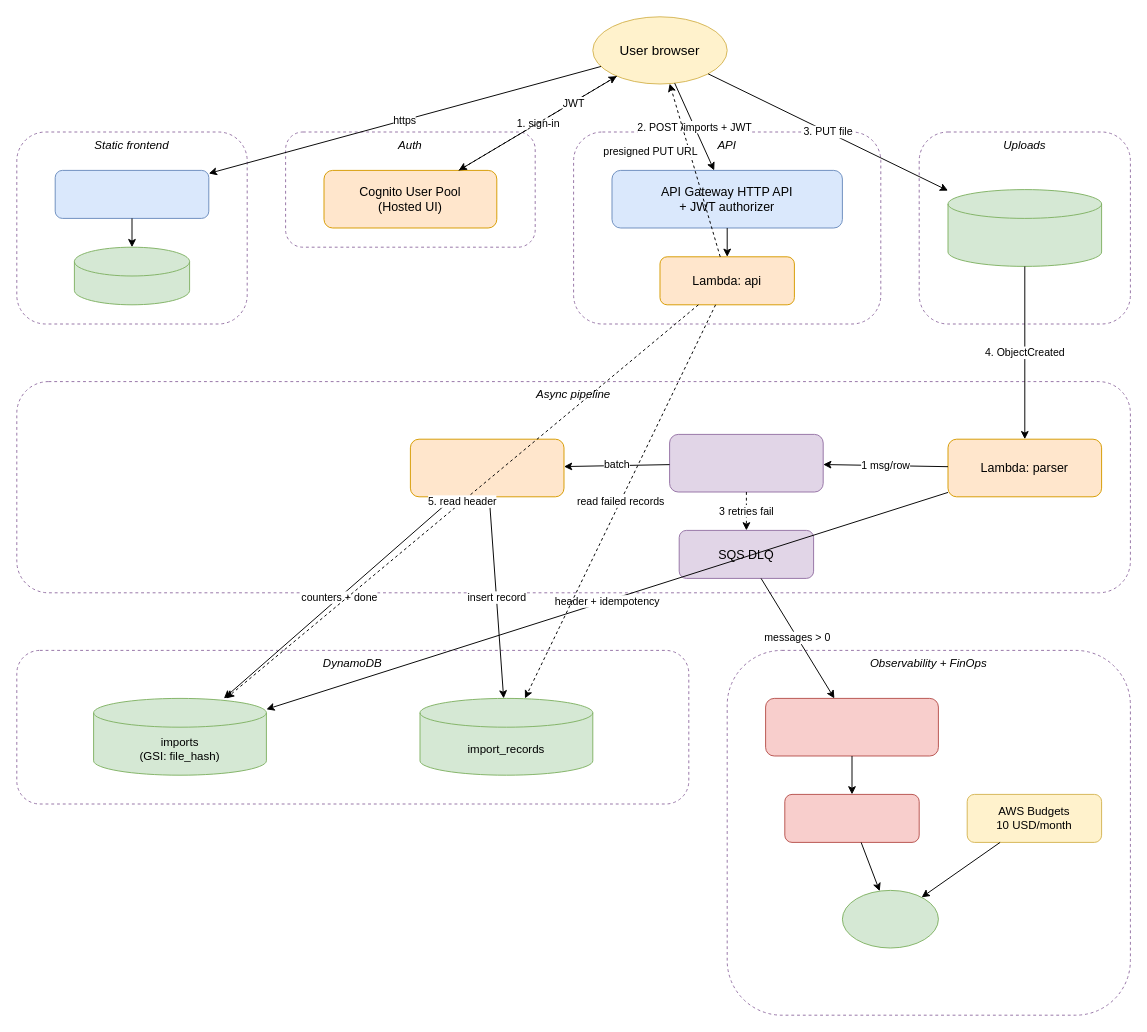
This 1147x1032 diagram has some shape labels left out. Each missing label, with the centre of its shape:
"CloudFront" goes at point 131,193.
"CloudWatch alarm (dlq-not-empty)" goes at point 851,726.
"Email" goes at point 889,918.
"Lambda: worker" goes at point 486,467.
"S3 uploads bucket uploads/[user_id]/[import_id]" goes at point 1024,227.
"S3 web bucket (index.html)" goes at point 131,275.
"SNS topic" goes at point 851,817.
"SQS records" goes at point 746,462.
